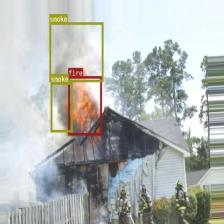fire: (67, 76, 102, 134)
smoke: (49, 22, 103, 82), (50, 82, 72, 132)
